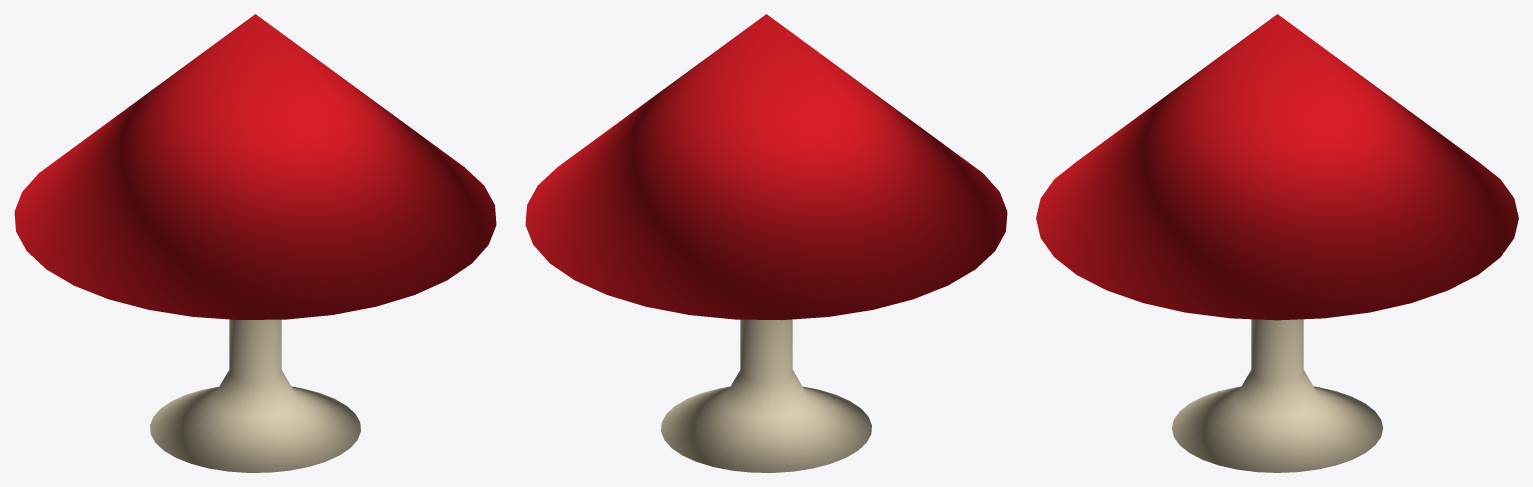
File: champi11.fbx
3 renders of one model, left to right at view 1: azimuth 30°, elevation 25°; view 2: azimuth 150°, elevation 25°; view 3: azimuth 270°, elevation 25°, orthographic.
Parts seen in each view (by area): view 1: Cylinder; view 2: Cylinder; view 3: Cylinder.
Part boxes in pixels (<box>): Cylinder: <box>14,14,496,472</box>; Cylinder: <box>525,14,1007,472</box>; Cylinder: <box>1036,14,1518,472</box>.
Size of the model in its own units: 91.36 by 86.47 by 91.36.
